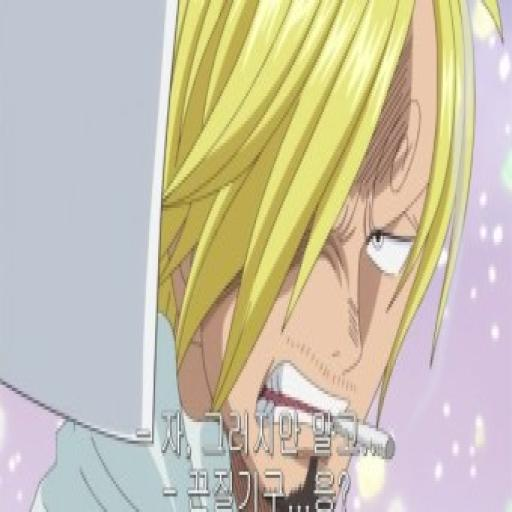sanji: (163, 0, 476, 511)
